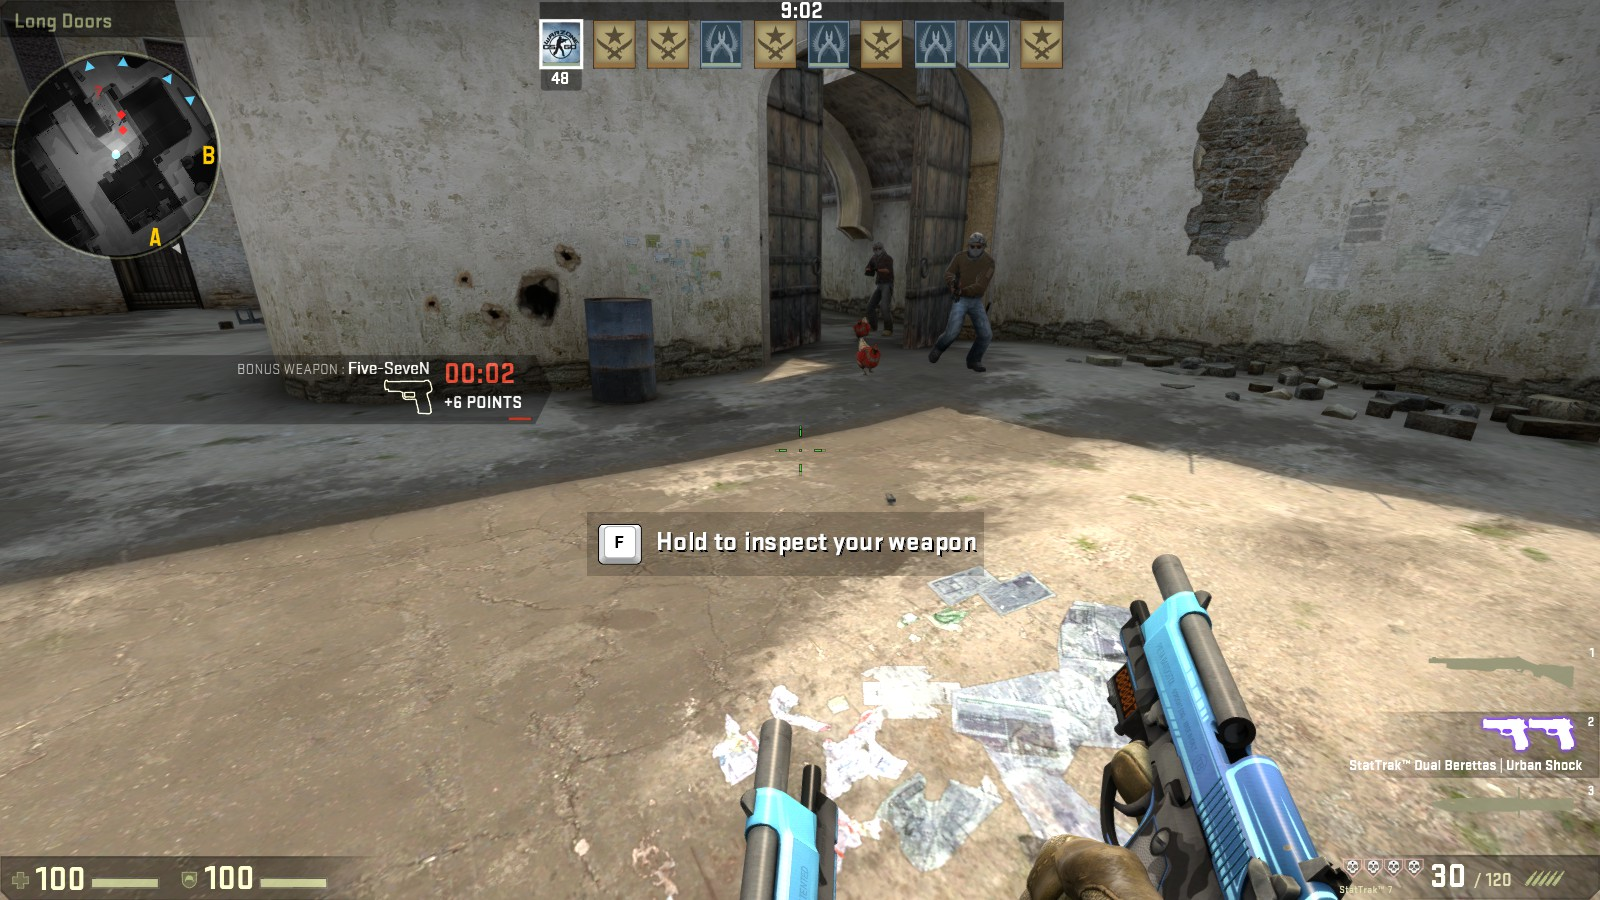t: (938, 231, 996, 375), (863, 240, 895, 336)
th: (964, 230, 986, 262), (870, 241, 885, 259)
